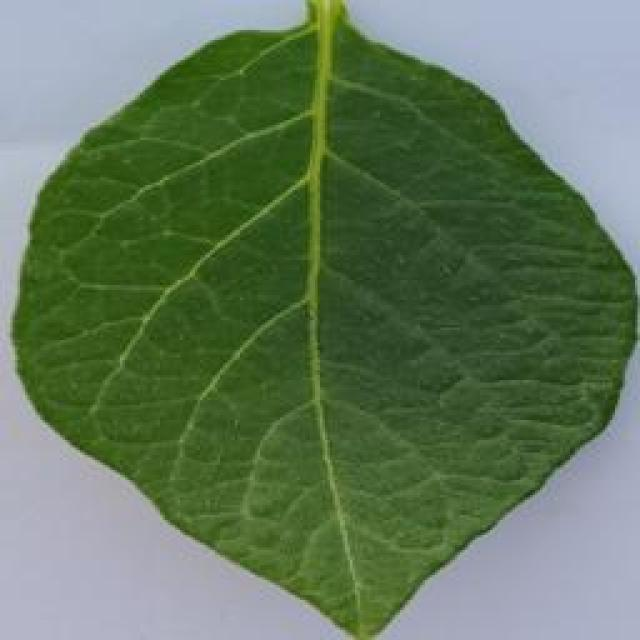Potato_Healthy: (11, 5, 628, 636)
